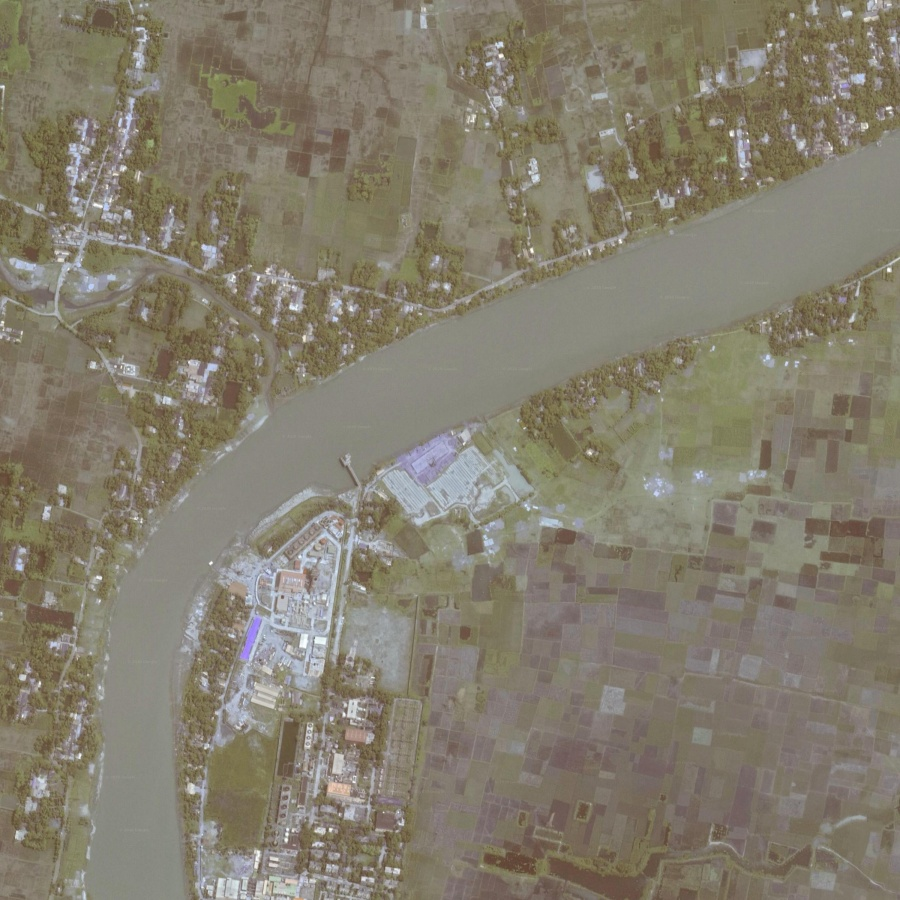PowerPlant: (267, 522, 338, 677)
